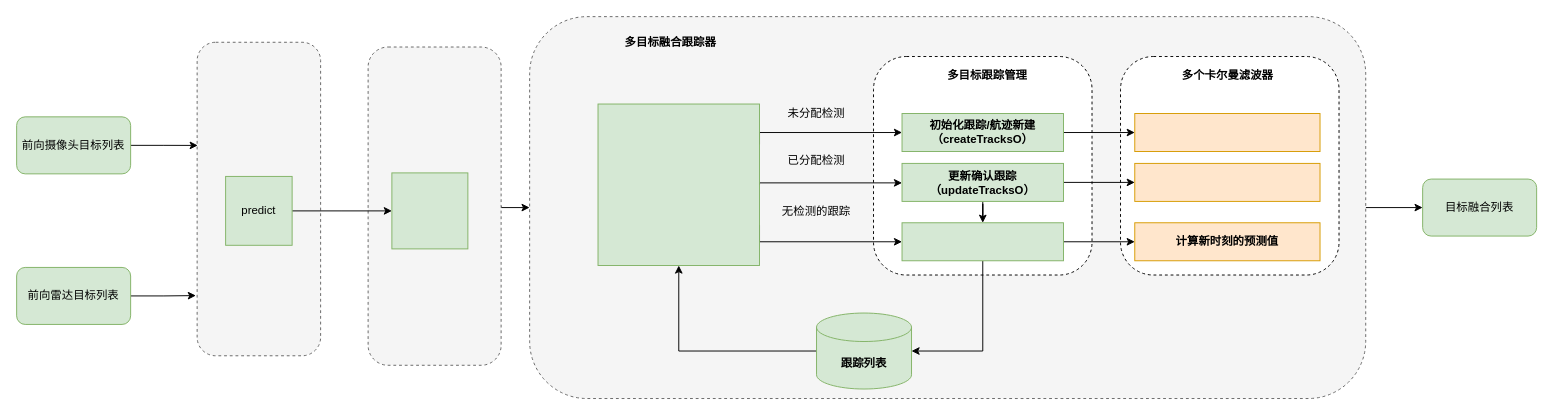
Image size: 1553x415. Some labels were removed from this diagram. Here are the shapes that lost their labels. From the top down, the centre of each, then its label:
(1227,132): 初始化滤波器
(678,184): 分配检测目标到已有跟踪列表 （assignBboxDisO）
(1227,181): 采用测量值更新滤波器
(429,210): Sensor Fusion
(982,241): 预测删除跟踪 （deleteTracksO）
